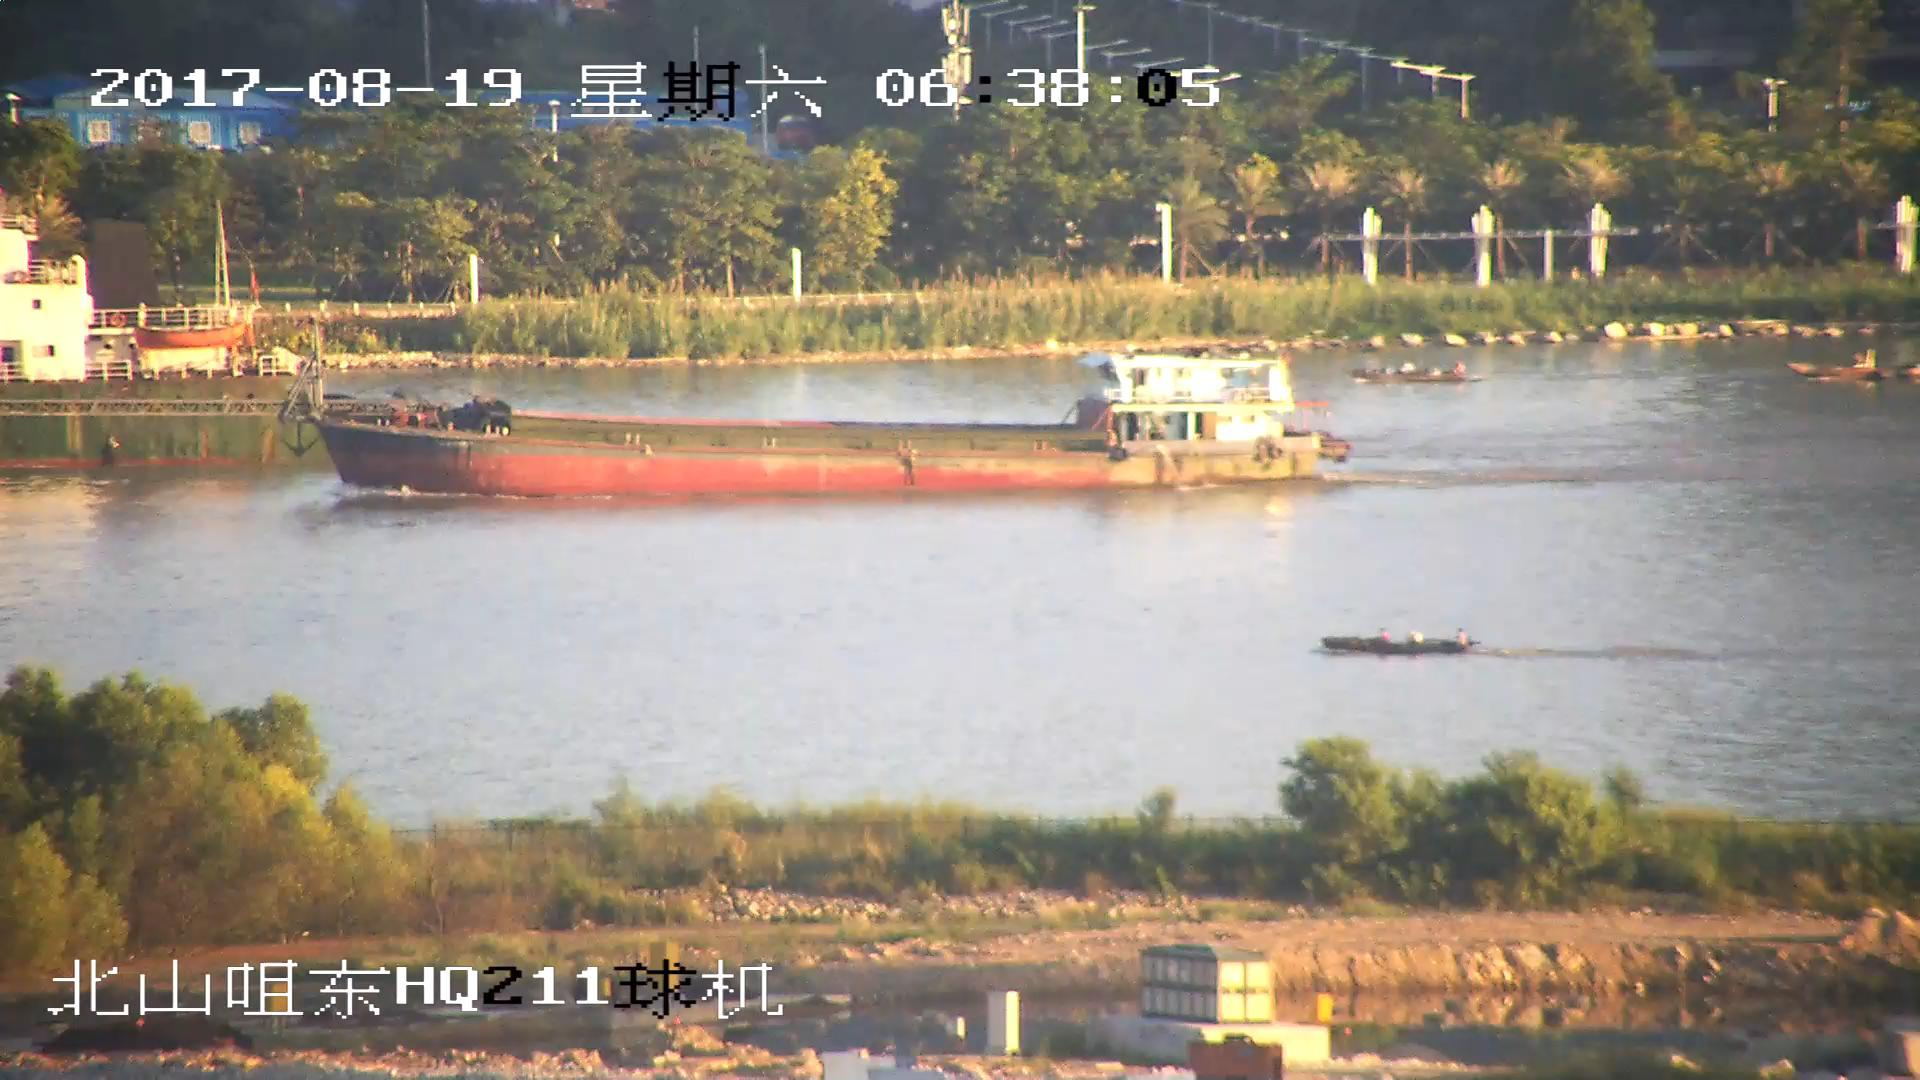Ship: (287, 353, 1352, 495), (3, 214, 286, 465), (1329, 622, 1486, 659), (1788, 357, 1920, 382), (1361, 364, 1465, 389)
